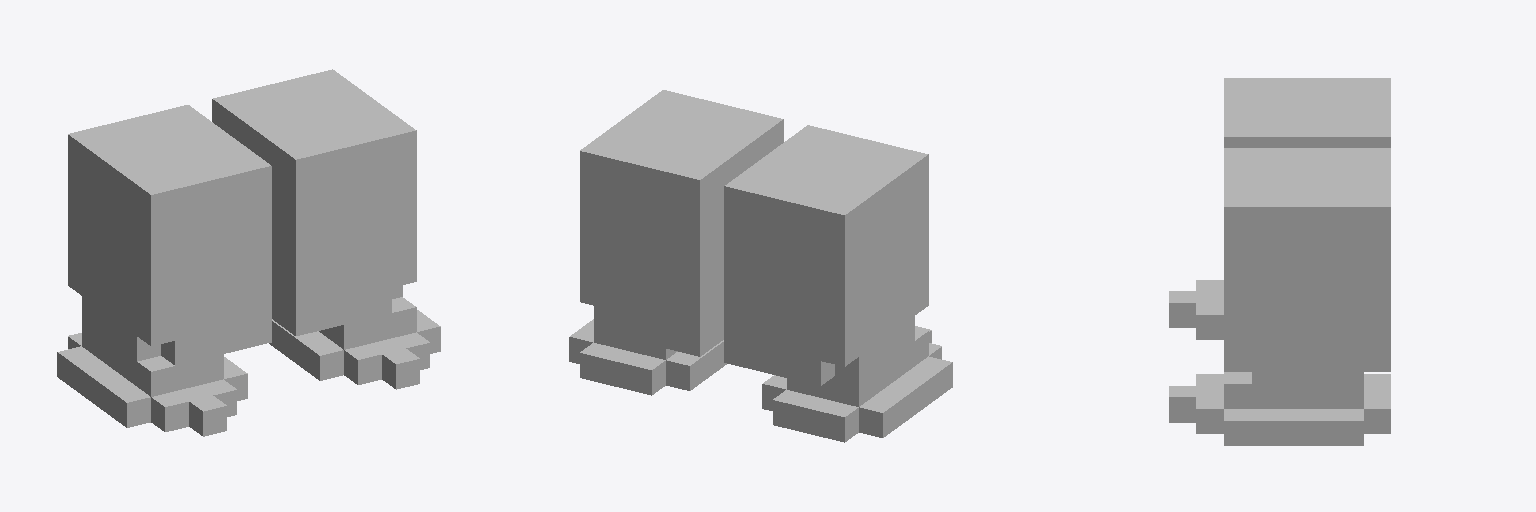
The model's file is JooDeepier.obj.
3 views of the same model, side by side, from view 1: azimuth 30°, elevation 25°; view 2: azimuth 150°, elevation 25°; view 3: azimuth 270°, elevation 25° (orthographic).
Visible parts, largest first — view 1: JooDeepier; view 2: JooDeepier; view 3: JooDeepier.
Part boxes in pixels (bbox=[...]): JooDeepier: bbox=[57, 69, 440, 436]; JooDeepier: bbox=[569, 90, 952, 442]; JooDeepier: bbox=[1169, 78, 1390, 445].
Size of the model in its own units: 1.3 by 0.9 by 0.8.